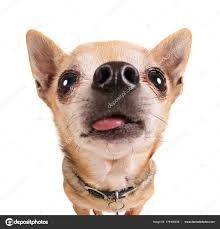chihuahua: (25, 28, 193, 214)
